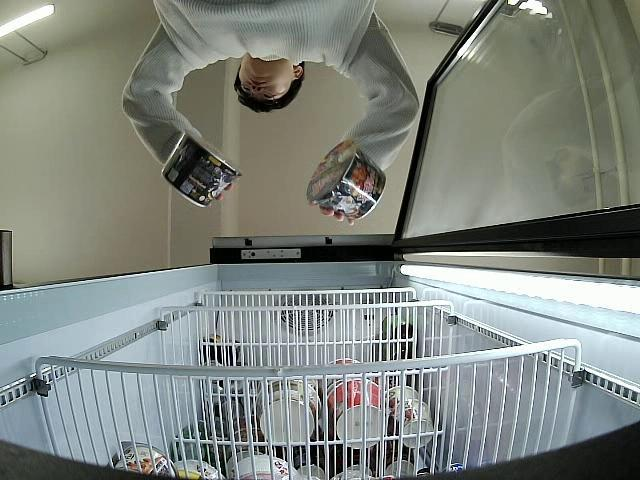07_buldak_L: (158, 128, 242, 211), (302, 144, 386, 222)
